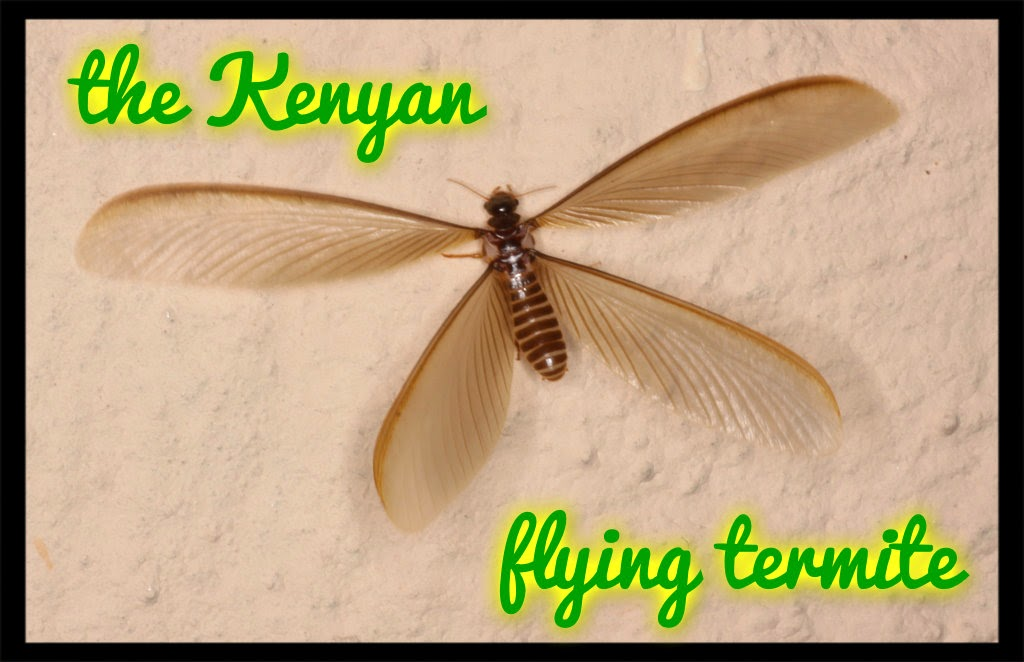flying termite: (62, 62, 989, 534)
